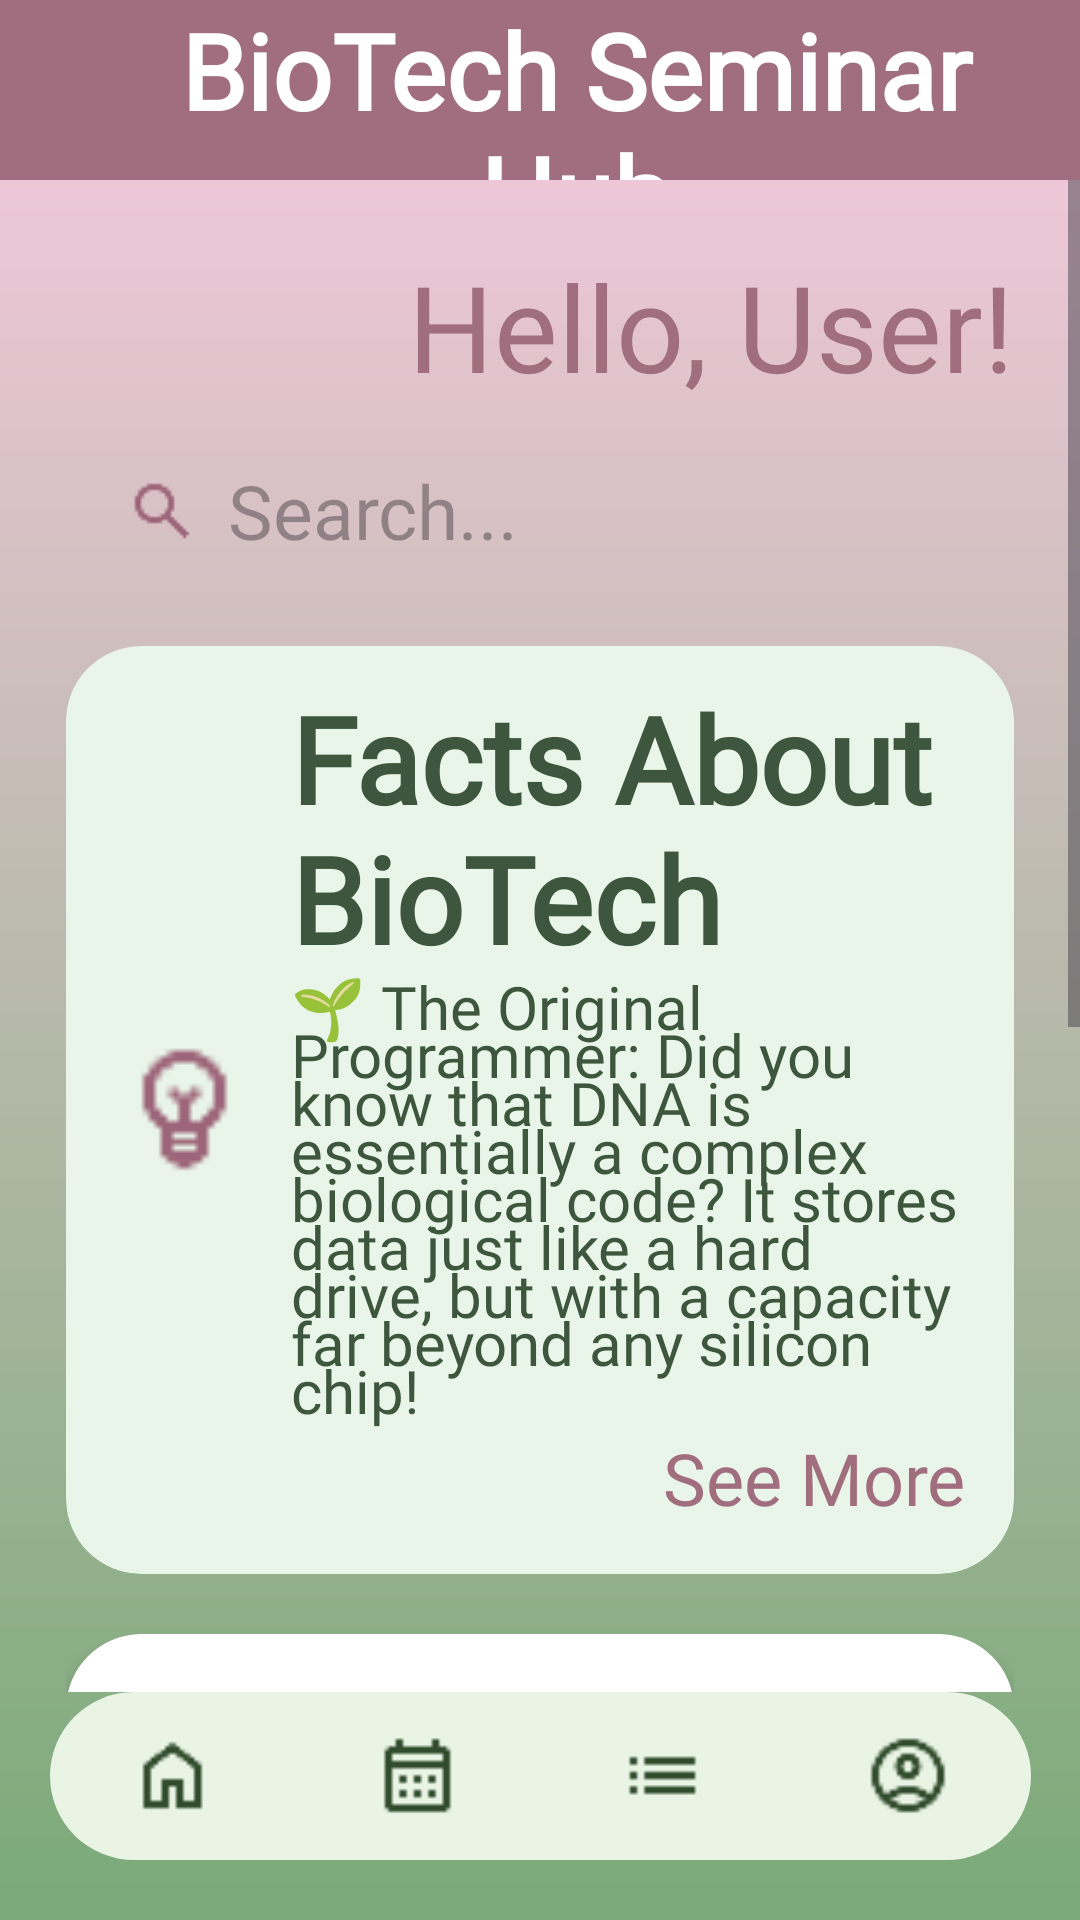

Icon click points for this 1080w x 1920h phone screenshot, format point (x, y):
calender: point (417, 1775)
funfact: point (184, 1109)
home: point (172, 1775)
list: point (662, 1775)
profile: point (908, 1775)
